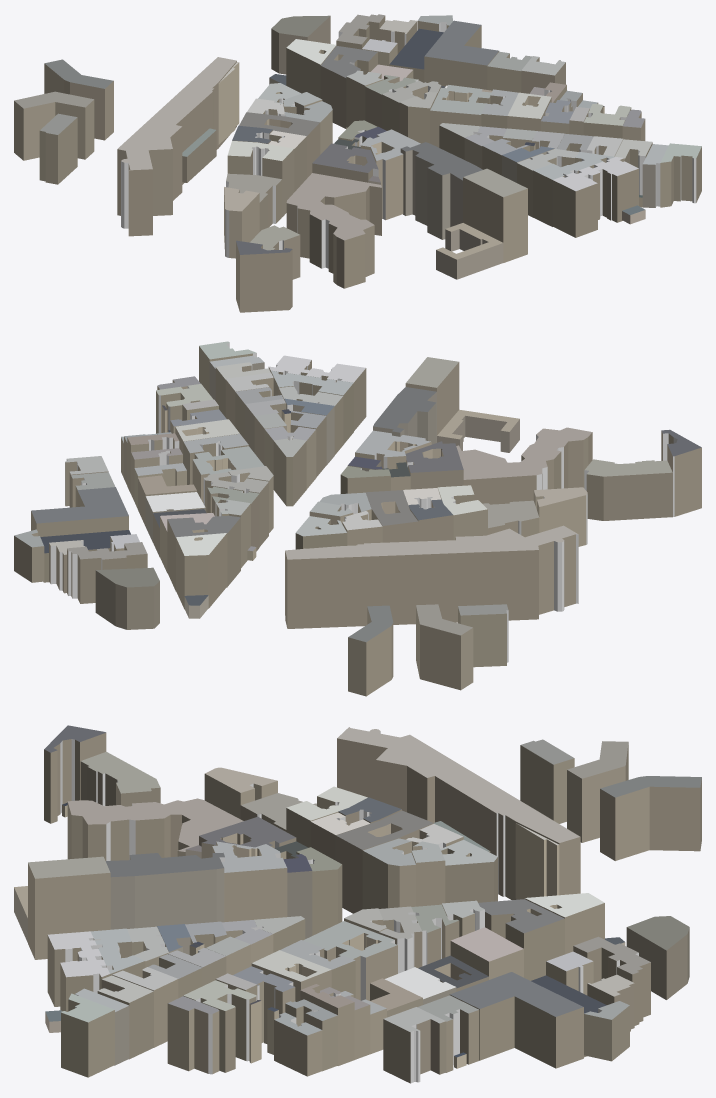
The picture shows the model from 3 angles, top to bottom: view 1: azimuth 30°, elevation 25°; view 2: azimuth 150°, elevation 25°; view 3: azimuth 270°, elevation 25°; orthographic projection. The views are drawn at different scales.
Visible parts, largest first — view 1: tuile; view 2: tuile; view 3: tuile.
Part boxes in pixels (left/top/right/bottom): tuile: left=14, top=14, right=701, bottom=312; tuile: left=14, top=341, right=701, bottom=696; tuile: left=14, top=725, right=701, bottom=1083.
Bounding box in the file's own units: 264 × 39.7 × 268.
